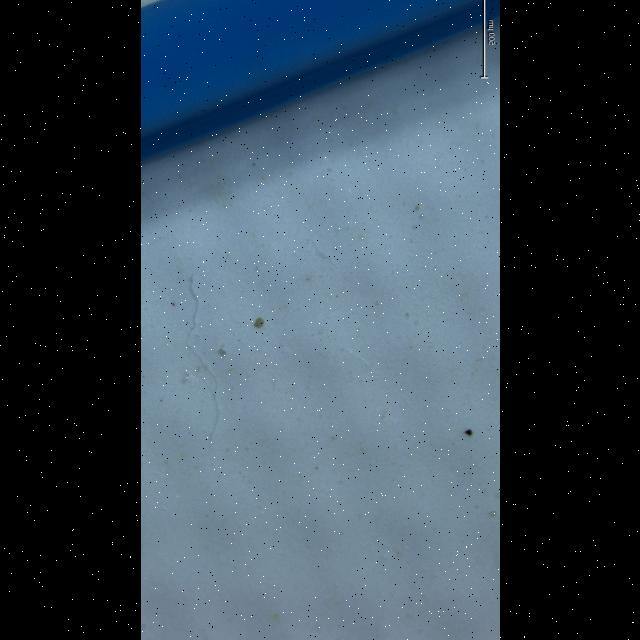Fibre: (185, 275, 219, 449)
Fragment: (254, 318, 264, 328)
